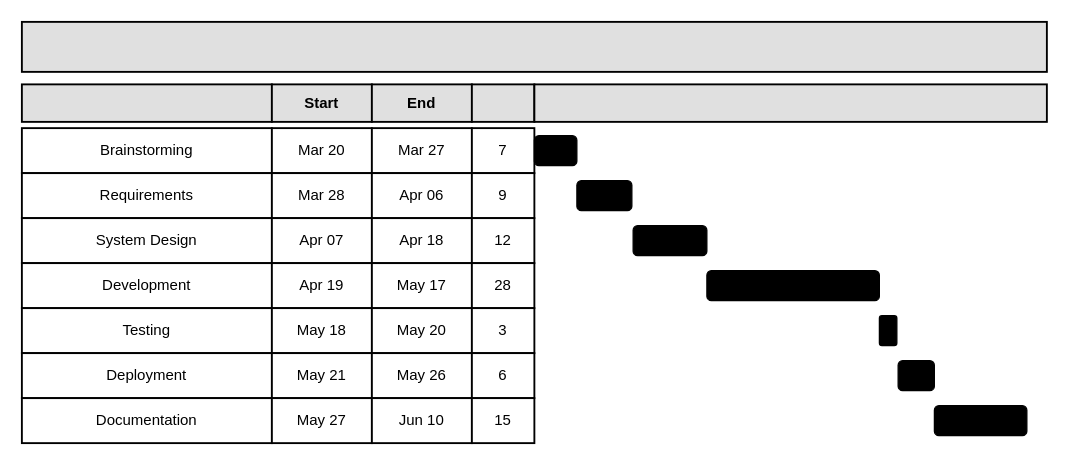
This 1070x466 diagram has some shape labels left out. Here are the shapes that lost their labels. From the top down, the centre of each, then its label:
the point at 533,46: Project Schedule — Gantt Chart
the point at 146,102: Phase
the point at 502,102: Days
the point at 790,102: Timeline (Mar 20 – Jun 10 2026)
